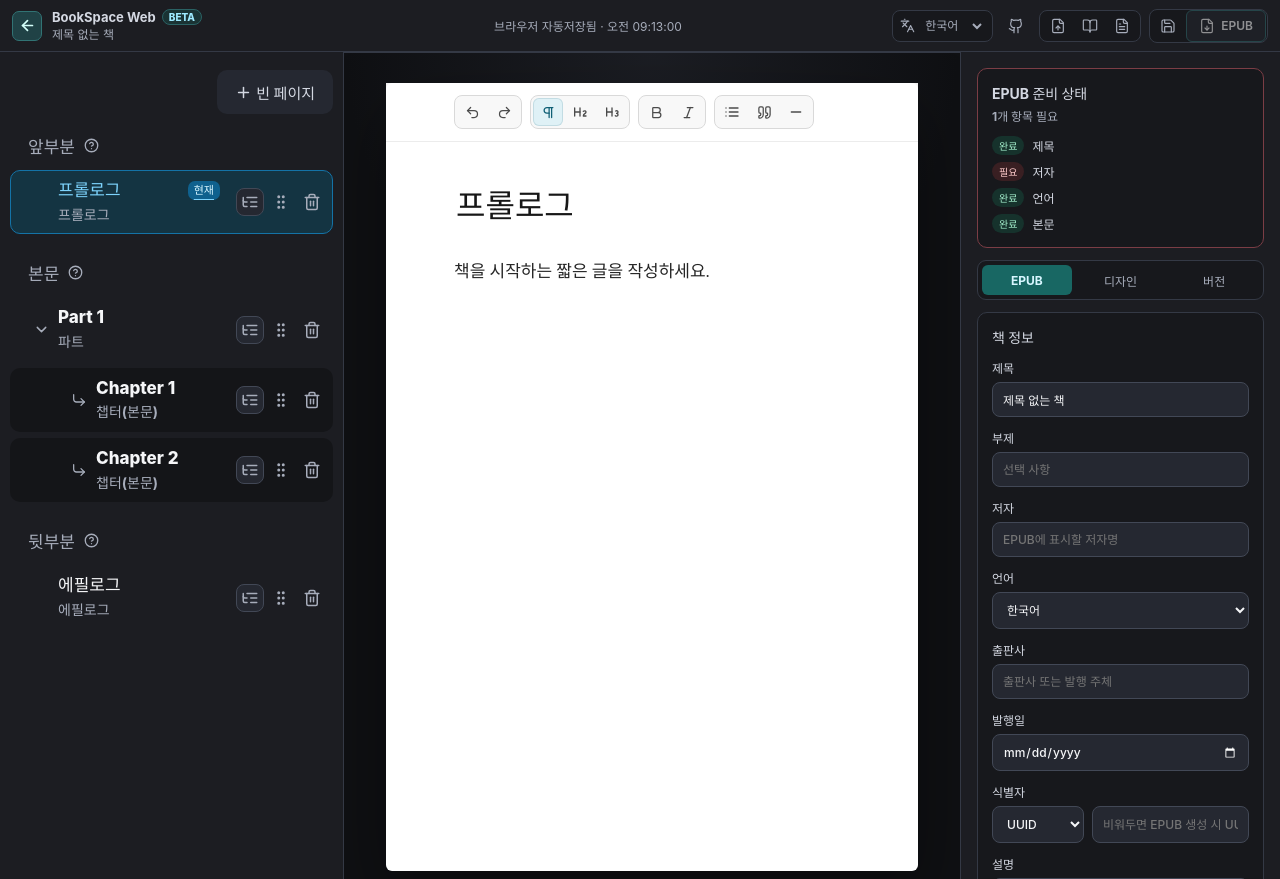
Test: BookSpace Web editor › exports an EPUB after required metadata is complete
Type "김작가" into the field labelled "저자" at [1120, 540], box [992, 522, 1249, 557]
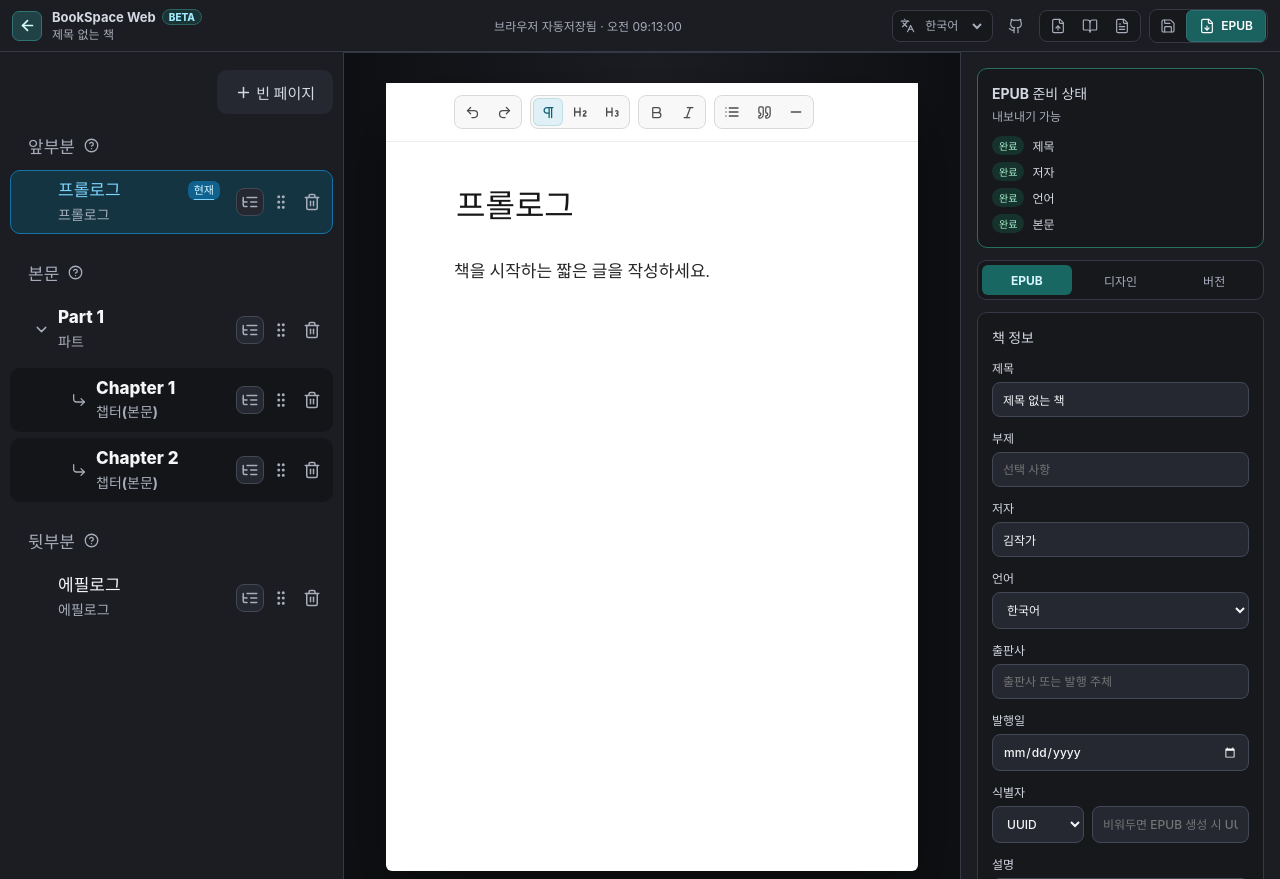
Click the button with aria-label "EPUB 내보내기" at [1226, 26], box [1186, 10, 1266, 42]
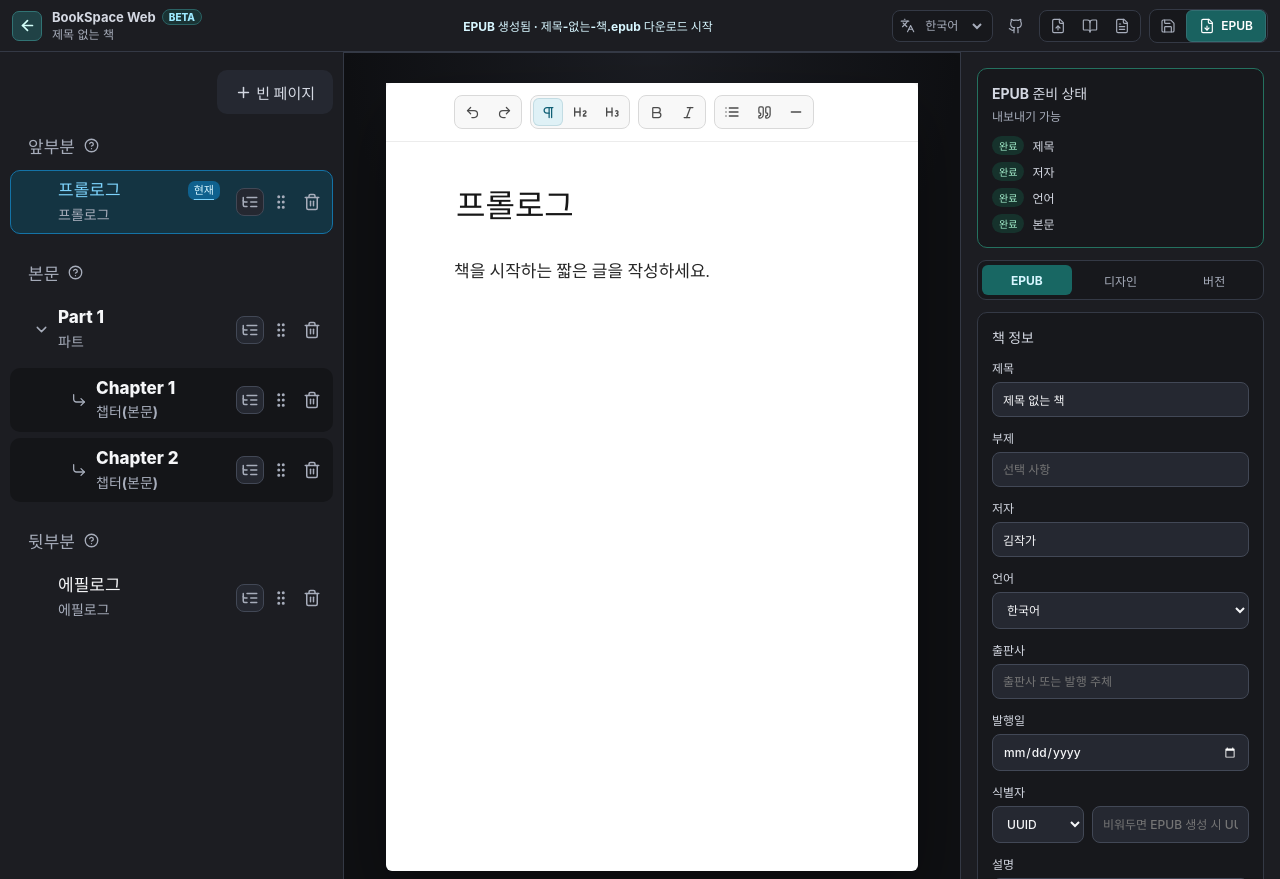
Expected: the message shows "EPUB 생성됨", [463, 19, 713, 34]
Expected: the message shows ".epub", [463, 19, 713, 34]
